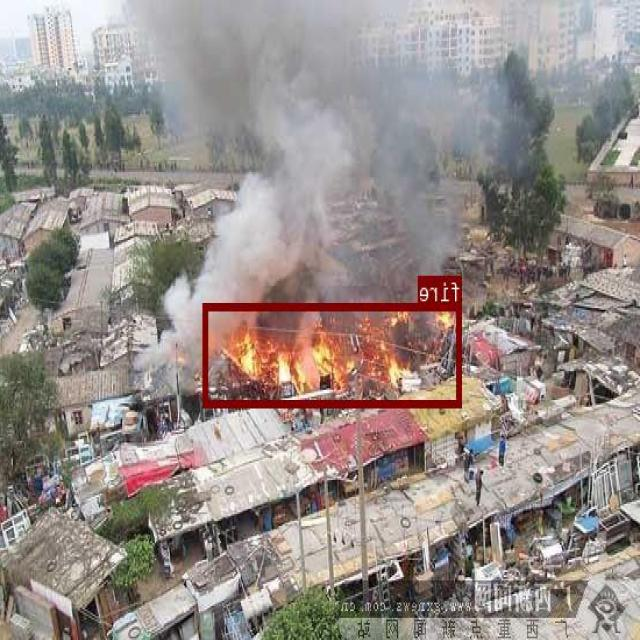fire: (204, 302, 463, 406)
